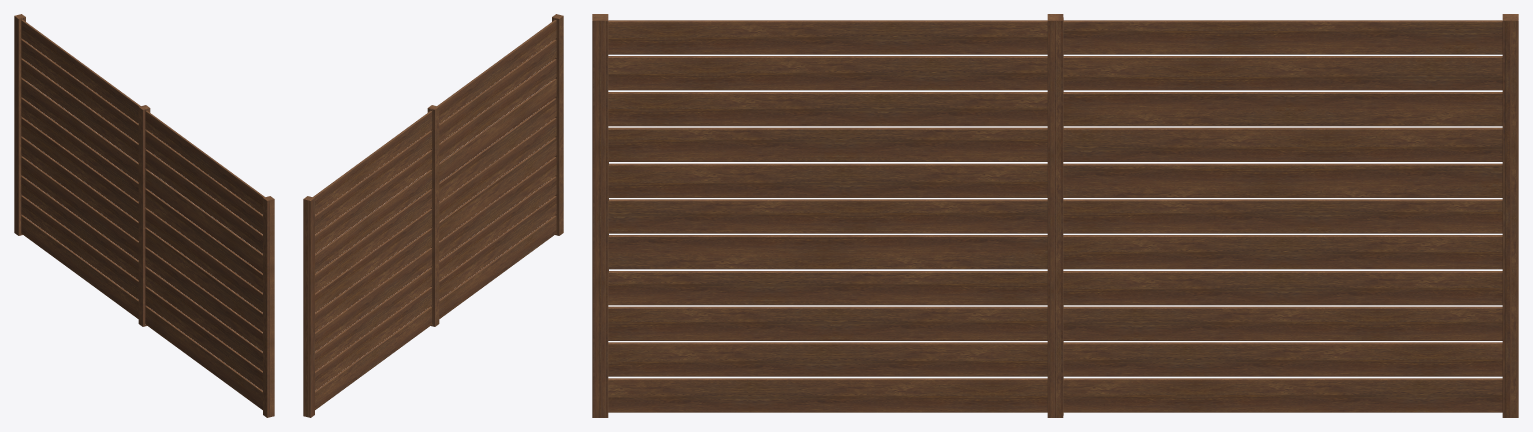
File: modelz.glb
3 renders of one model, left to right at view 1: azimuth 30°, elevation 25°; view 2: azimuth 150°, elevation 25°; view 3: azimuth 270°, elevation 25°, orthographic. The views are drawn at different scales.
Visible parts, largest first — view 1: Slat_1.010, Slat_1.027, Slat_1, Slat_1.003, Slat_1.019, Slat_1.021, Slat_1.025, Slat_1.002, Slat_1.004, Slat_1.005, Slat_1.006, Slat_1.007 (+14 smaller); view 2: Slat_1.010, Slat_1.027, Slat_1.002, Slat_1.004, Slat_1.008, Slat_1.003, Slat_1.007, Slat_1.017, Slat_1.024, Slat_1, Slat_1.001, Slat_1.006 (+14 smaller); view 3: Slat_1, Slat_1.001, Slat_1.002, Slat_1.007, Slat_1.008, Slat_1.009, Slat_1.010, Slat_1.017, Slat_1.018, Slat_1.020, Slat_1.021, Slat_1.022 (+19 smaller).
Part boxes in pixels (x1,y1,x2,y2): Slat_1.010: (145,111,264,214); Slat_1.027: (21,20,140,123); Slat_1: (145,306,262,409); Slat_1.003: (145,247,262,351); Slat_1.019: (21,176,138,279); Slat_1.021: (21,137,138,240); Slat_1.025: (21,59,138,162); Slat_1.002: (145,267,262,370); Slat_1.004: (145,228,262,331); Slat_1.005: (145,208,262,312); Slat_1.006: (145,189,262,292); Slat_1.007: (145,169,262,273); Slat_1.010: (437,20,556,123); Slat_1.027: (313,111,432,214); Slat_1.002: (439,176,556,279); Slat_1.004: (439,137,556,240); Slat_1.008: (439,59,556,162); Slat_1.003: (439,157,556,260); Slat_1.007: (439,78,556,182); Slat_1.017: (315,306,432,409); Slat_1.024: (315,169,432,273); Slat_1: (439,215,556,318); Slat_1.001: (439,196,556,299); Slat_1.006: (439,98,556,201); Slat_1: (608,378,1047,412); Slat_1.001: (608,342,1047,376); Slat_1.002: (608,306,1047,340); Slat_1.007: (608,127,1047,161); Slat_1.008: (608,92,1047,126); Slat_1.009: (608,56,1047,90); Slat_1.010: (608,20,1047,54); Slat_1.017: (1063,378,1502,412); Slat_1.018: (1063,342,1502,376); Slat_1.020: (1063,271,1502,305); Slat_1.021: (1063,235,1502,269); Slat_1.022: (1063,199,1502,233).
Bounding box in the file's own units: 0.0651 × 1.8 × 3.8.
Materials: 3 (1 with a texture image).
